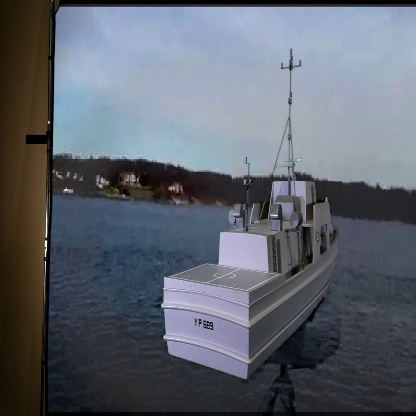YP689: (163, 51, 341, 380)
